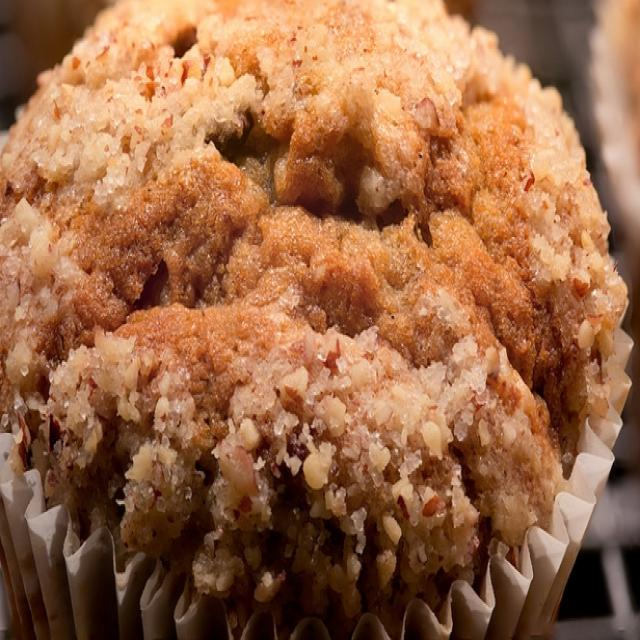炸货点心: (9, 8, 622, 623)
面包点心: (9, 8, 622, 623)
